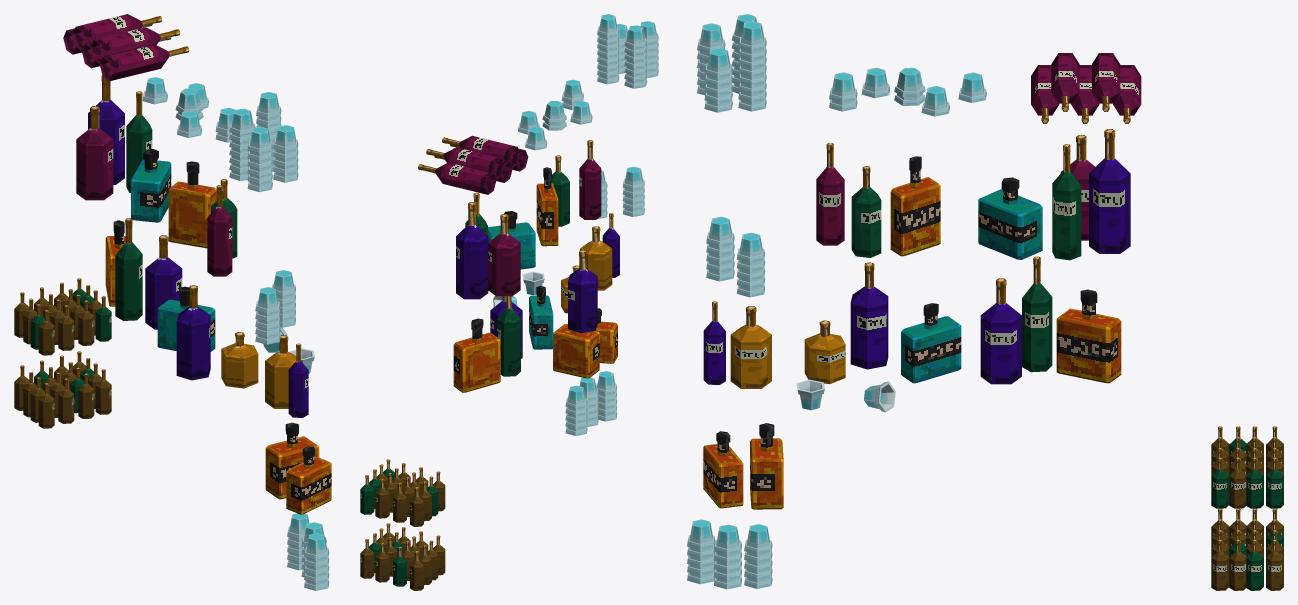
Rendered from E_LiquorAndGlasses.fbx.
The picture shows the model from 3 angles, left to right: view 1: azimuth 30°, elevation 25°; view 2: azimuth 150°, elevation 25°; view 3: azimuth 270°, elevation 25°; orthographic projection. The views are drawn at different scales.
Visible parts, largest first — view 1: Cube.039, Cylinder.003, Cylinder.017, Cube.038, Cube.037, Cylinder.015, Cylinder.016, Cube.035, Cylinder.012, Cylinder.053, Cylinder.132, Cylinder.002 (+29 smaller); view 2: Cube.036, Cylinder.002, Cube.035, Cylinder.003, Cylinder.017, Cylinder.015, Cube.039, Cylinder.012, Cylinder.010, Cube.034, Cylinder.014, Cube.038 (+23 smaller); view 3: Cube.036, Cube.038, Cylinder.002, Cube.039, Cube.034, Cylinder.016, Cylinder.017, Cylinder.015, Cylinder.001, Cylinder.014, Cube.035, Cube.037 (+10 smaller).
Part boxes in pixels (x1,y1,x2,y2): Cube.039: [168, 161, 216, 248]; Cylinder.003: [76, 106, 113, 200]; Cylinder.017: [176, 285, 210, 380]; Cube.038: [131, 149, 171, 222]; Cube.037: [286, 446, 331, 514]; Cylinder.015: [115, 218, 142, 320]; Cylinder.016: [145, 235, 182, 329]; Cube.035: [265, 422, 319, 499]; Cylinder.012: [207, 185, 232, 276]; Cylinder.053: [99, 44, 189, 81]; Cylinder.132: [221, 332, 258, 388]; Cylinder.002: [88, 75, 124, 184]; Cube.036: [453, 318, 500, 392]; Cylinder.002: [456, 202, 488, 299]; Cube.035: [553, 324, 599, 378]; Cylinder.003: [488, 214, 520, 296]; Cylinder.017: [568, 249, 597, 333]; Cylinder.015: [497, 296, 520, 376]; Cube.039: [536, 167, 558, 246]; Cylinder.012: [579, 140, 601, 219]; Cylinder.010: [418, 162, 496, 194]; Cube.034: [529, 285, 553, 349]; Cylinder.014: [580, 226, 612, 290]; Cube.038: [488, 211, 535, 269]; Cube.036: [1056, 289, 1121, 383]; Cube.038: [978, 177, 1042, 259]; Cylinder.002: [1089, 129, 1130, 253]; Cube.039: [890, 156, 940, 256]; Cube.034: [901, 303, 961, 383]; Cylinder.016: [980, 278, 1021, 384]; Cylinder.017: [850, 262, 888, 369]; Cylinder.015: [1022, 256, 1052, 372]; Cylinder.001: [1052, 144, 1081, 260]; Cylinder.014: [730, 306, 771, 388]; Cube.035: [750, 423, 783, 509]; Cube.037: [703, 431, 743, 508].
Size of the model in its own units: 128 by 500 by 503.
